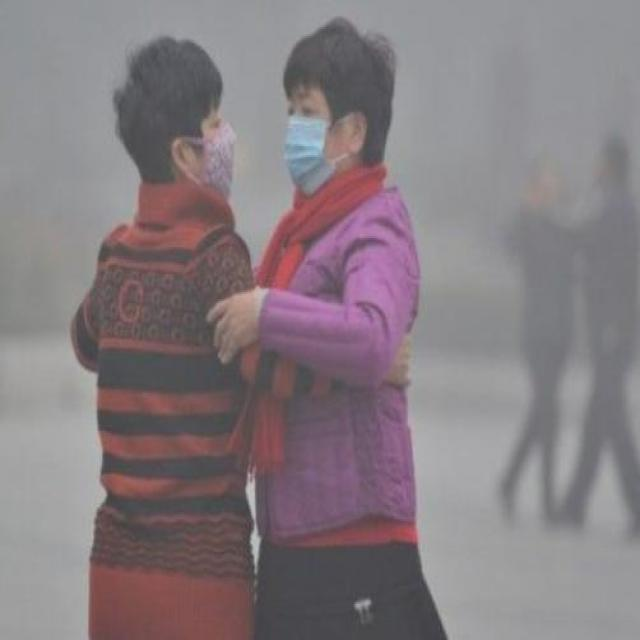mask: (284, 78, 346, 188), (172, 89, 232, 185)
